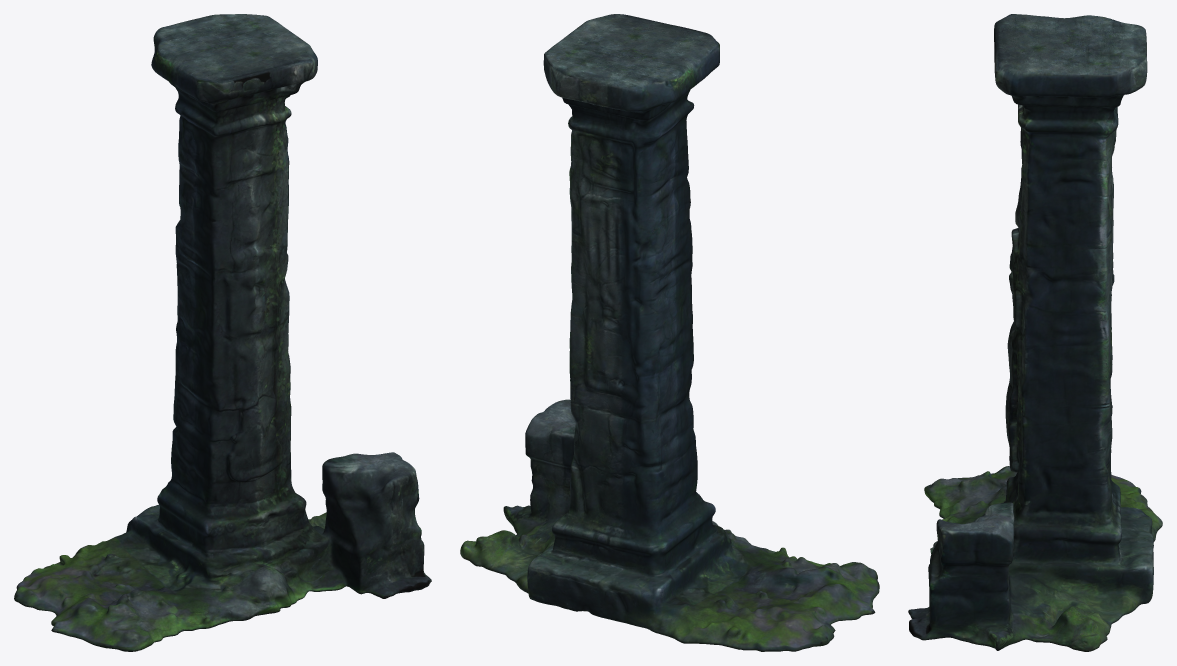
Rendered from scatter_03.glb.
The picture shows the model from 3 angles, left to right: view 1: azimuth 30°, elevation 25°; view 2: azimuth 150°, elevation 25°; view 3: azimuth 270°, elevation 25°; orthographic projection. The views are drawn at different scales.
Bounding box in the file's own units: 1.47 × 2 × 0.8653.
1 material, 1 textured.
